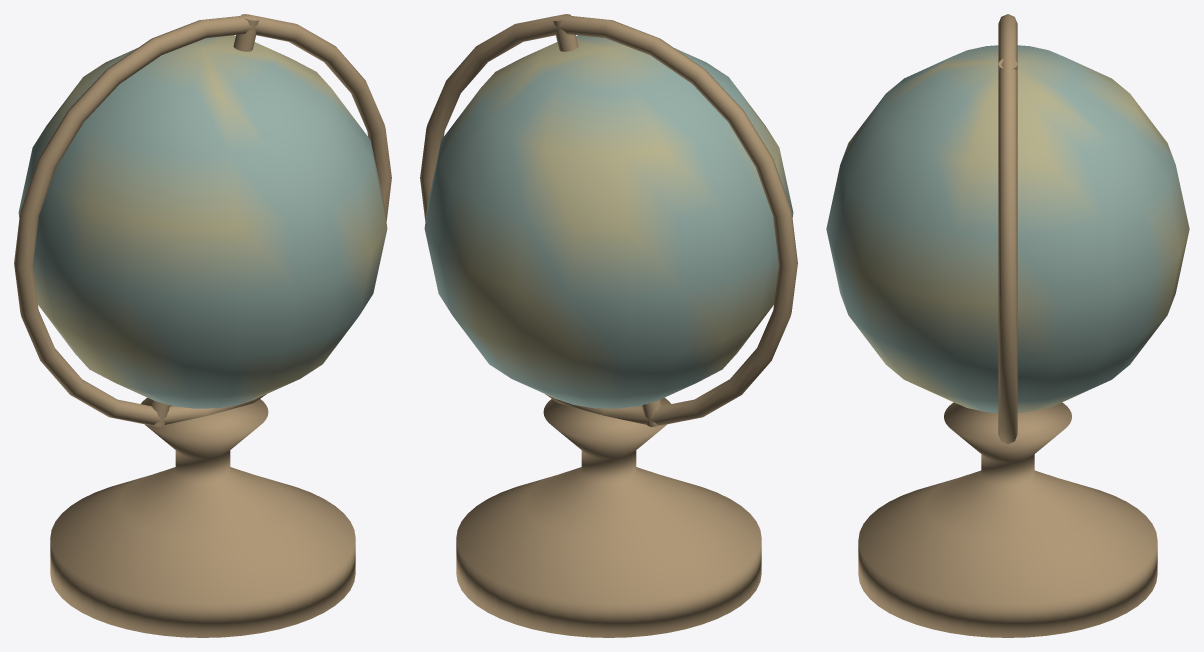
File: globe.glb
3 renders of one model, left to right at view 1: azimuth 30°, elevation 25°; view 2: azimuth 150°, elevation 25°; view 3: azimuth 270°, elevation 25°, orthographic. The views are drawn at different scales.
Visible parts, largest first — view 1: earth, globe-pedestal, meridian-ring, tilted-axis; view 2: earth, globe-pedestal, meridian-ring, tilted-axis; view 3: earth, globe-pedestal, meridian-ring.
Boxes of the visible parts, <box> form: earth: <box>18,35,387,408</box>; globe-pedestal: <box>50,397,355,637</box>; meridian-ring: <box>14,15,391,425</box>; tilted-axis: <box>150,14,259,427</box>; earth: <box>424,35,793,408</box>; globe-pedestal: <box>456,397,761,637</box>; meridian-ring: <box>420,15,797,425</box>; tilted-axis: <box>552,14,661,427</box>; earth: <box>826,45,1189,412</box>; globe-pedestal: <box>858,402,1157,637</box>; meridian-ring: <box>998,14,1017,443</box>.
Bounding box in the file's own units: 0.398 × 0.5598 × 0.34.
